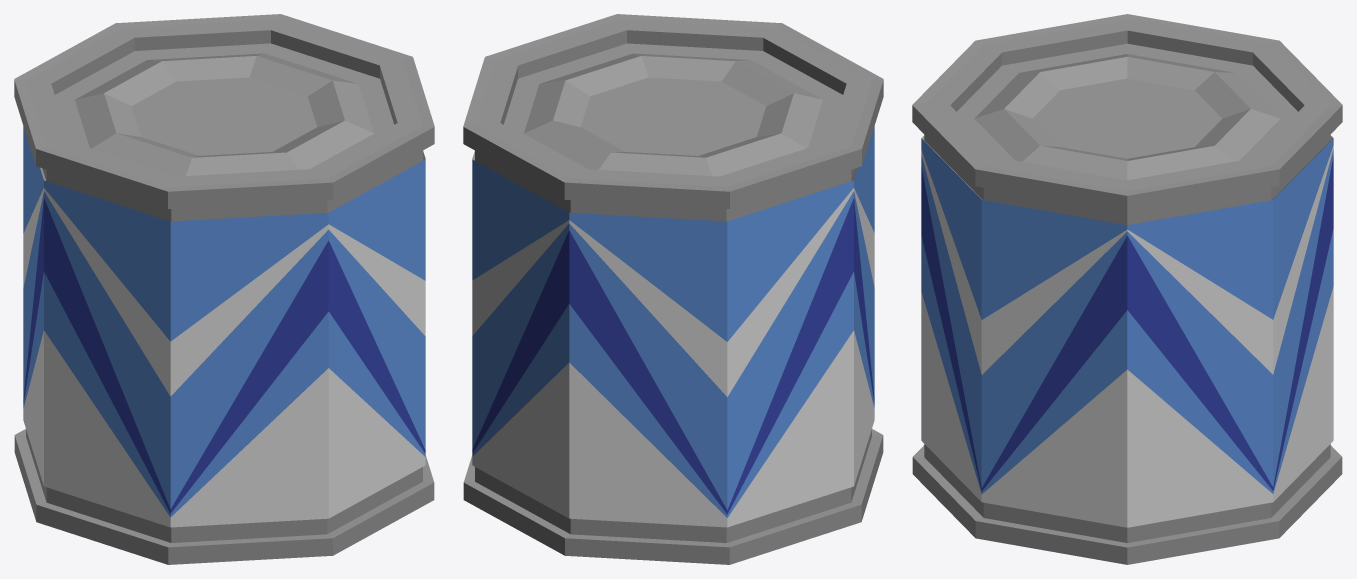
Rendered from suh paek.fbx.
3 views of the same model, side by side, from view 1: azimuth 30°, elevation 25°; view 2: azimuth 150°, elevation 25°; view 3: azimuth 270°, elevation 25° (orthographic).
Visible parts, largest first — view 1: Cylinder.001; view 2: Cylinder.001; view 3: Cylinder.001.
Boxes of the visible parts, bbox=[...] form: Cylinder.001: bbox=[14, 14, 434, 564]; Cylinder.001: bbox=[463, 14, 883, 564]; Cylinder.001: bbox=[912, 14, 1342, 564].
Bounding box in the file's own units: 87.92 × 83.2 × 87.92.
